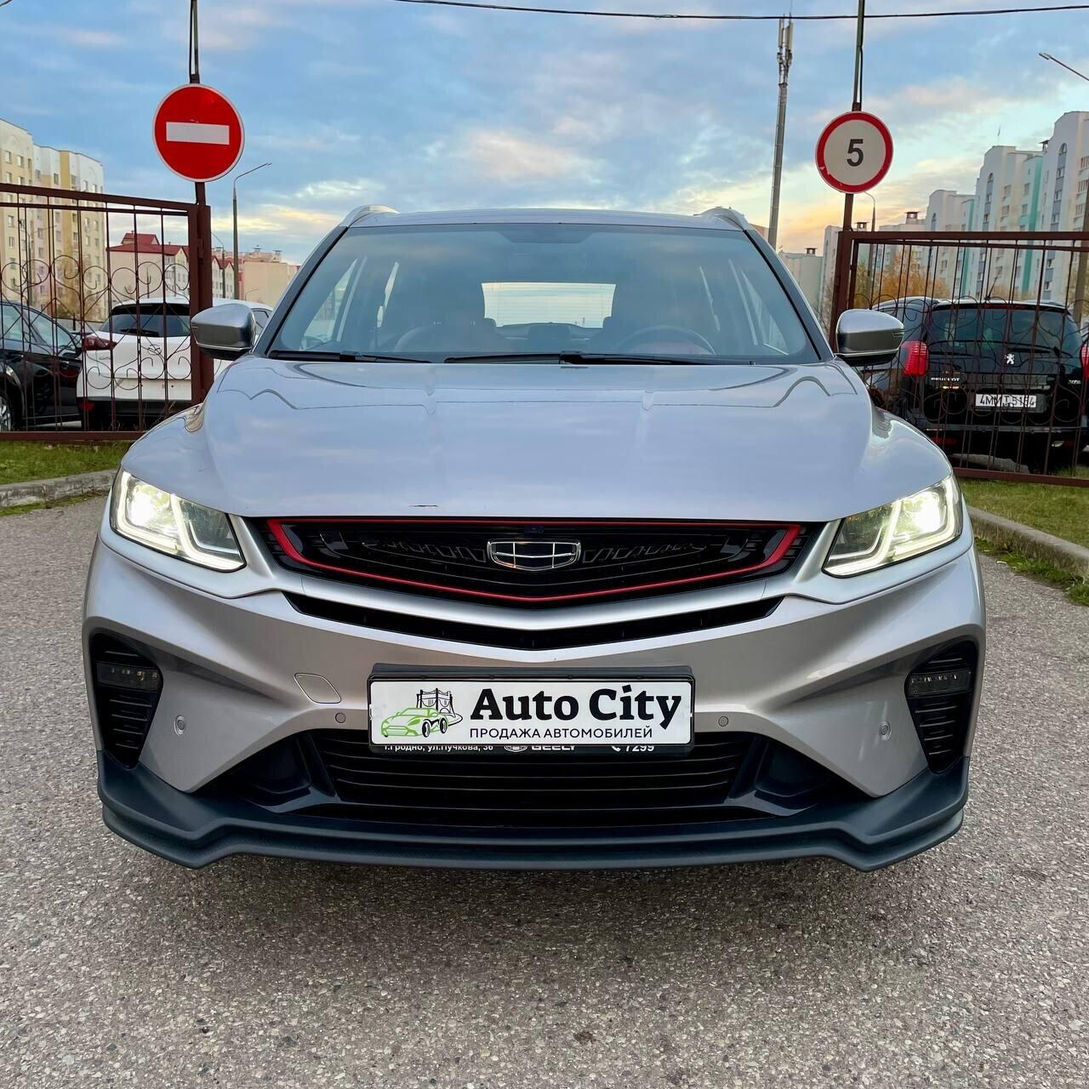Coolray_2019-2023: (84, 200, 984, 898)
